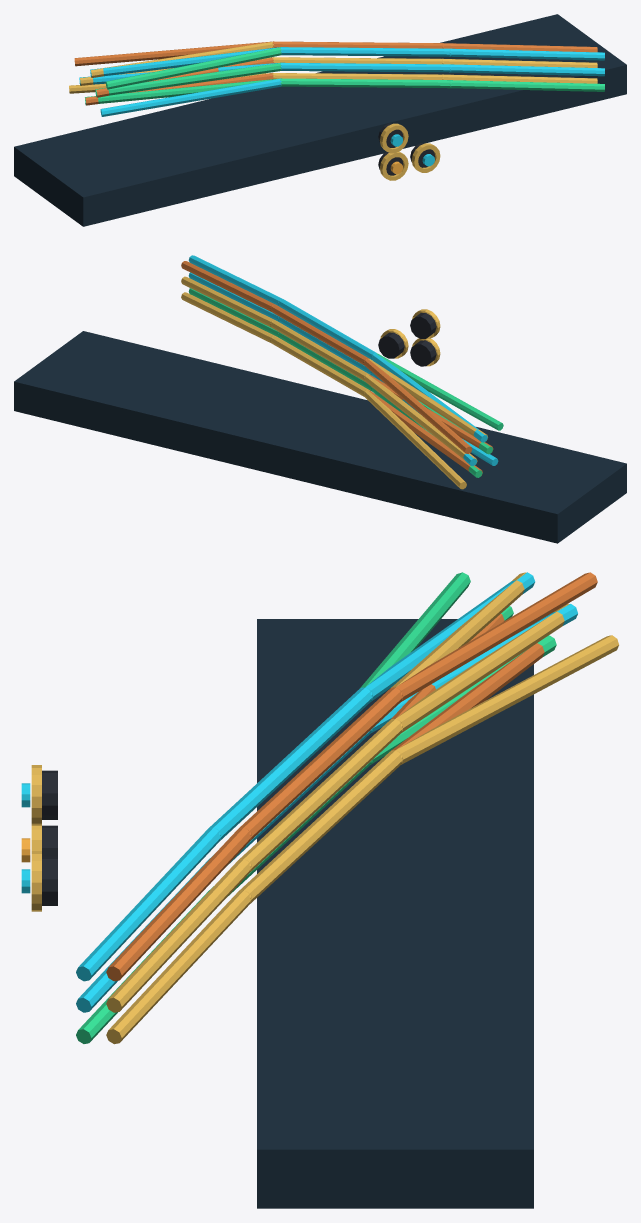
File: 14_L82_ShieldedHarnessBundle.fbx
3 renders of one model, top to bottom at view 1: azimuth 30°, elevation 25°; view 2: azimuth 150°, elevation 25°; view 3: azimuth 270°, elevation 25°, orthographic. The views are drawn at different scales.
Parts seen in each view (by area): view 1: ShieldedHarnessBundle; view 2: ShieldedHarnessBundle; view 3: ShieldedHarnessBundle.
Boxes of the visible parts, box(x1,y1,x2,y2) form: ShieldedHarnessBundle: box(14, 14, 626, 226); ShieldedHarnessBundle: box(14, 255, 626, 543); ShieldedHarnessBundle: box(21, 572, 618, 1208).
Bounding box in the file's own units: 290 × 53.5 × 138.
